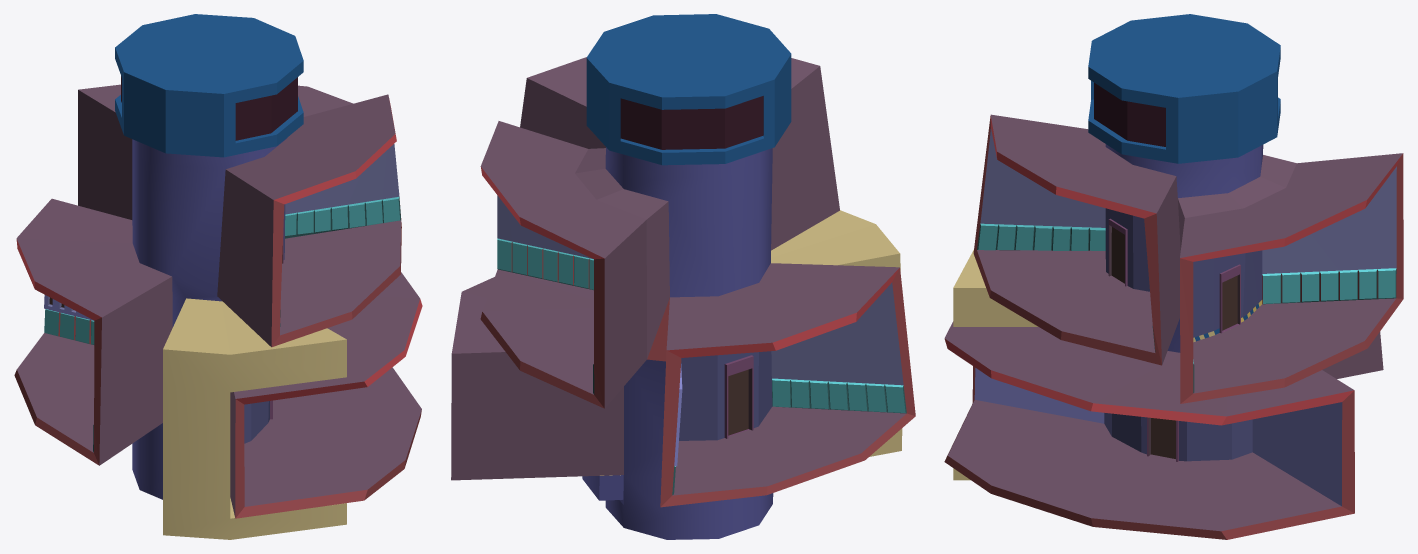
The model's file is F_Floor2.FBX.
The picture shows the model from 3 angles, left to right: view 1: azimuth 30°, elevation 25°; view 2: azimuth 150°, elevation 25°; view 3: azimuth 270°, elevation 25°; orthographic projection. The views are drawn at different scales.
Visible parts, largest first — view 1: New Factory; view 2: New Factory; view 3: New Factory.
Part boxes in pixels (bbox=[...]): New Factory: bbox=[14, 14, 422, 539]; New Factory: bbox=[451, 14, 915, 539]; New Factory: bbox=[944, 14, 1403, 539].
Size of the model in its own units: 4134 by 4358 by 4582.
1 material, 1 textured.
